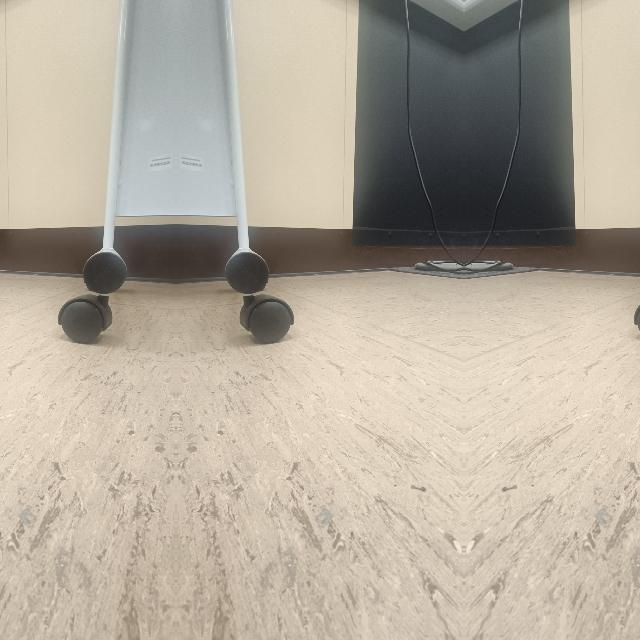obstacle: (223, 169, 297, 345), (53, 169, 127, 345), (630, 169, 640, 345)
